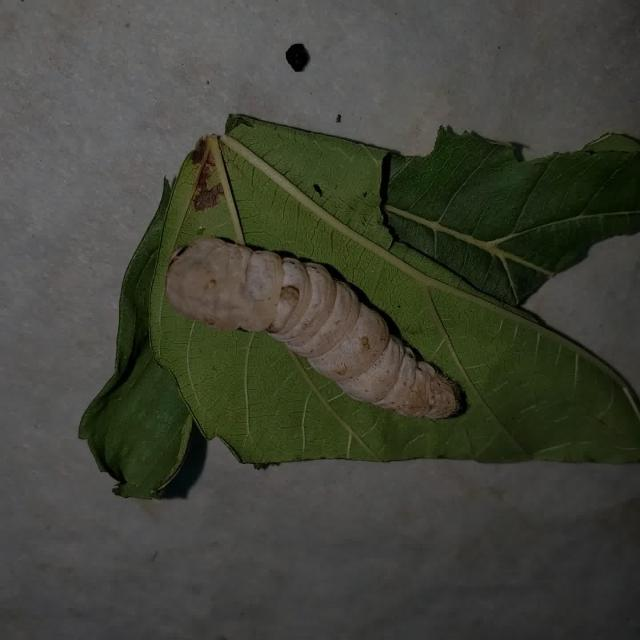Grasserie: (154, 202, 480, 455)
